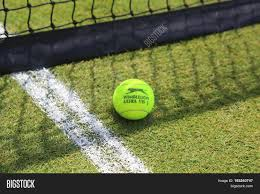tennis_ball: (113, 79, 153, 120)
